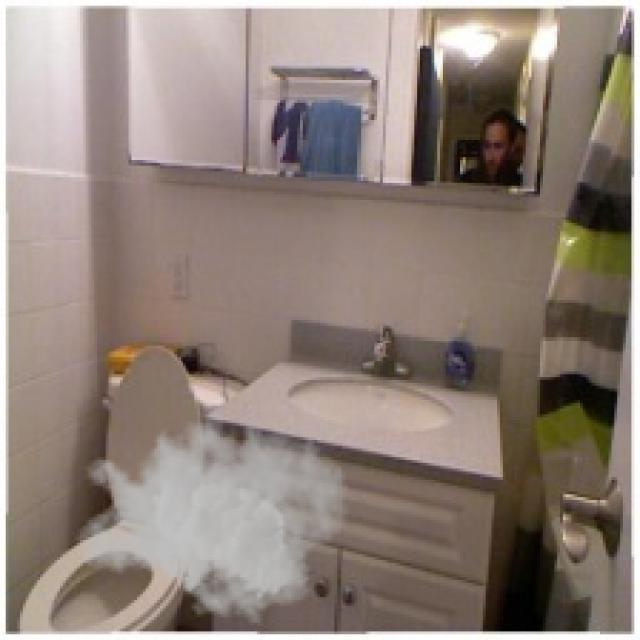smoke: (74, 394, 349, 626)
